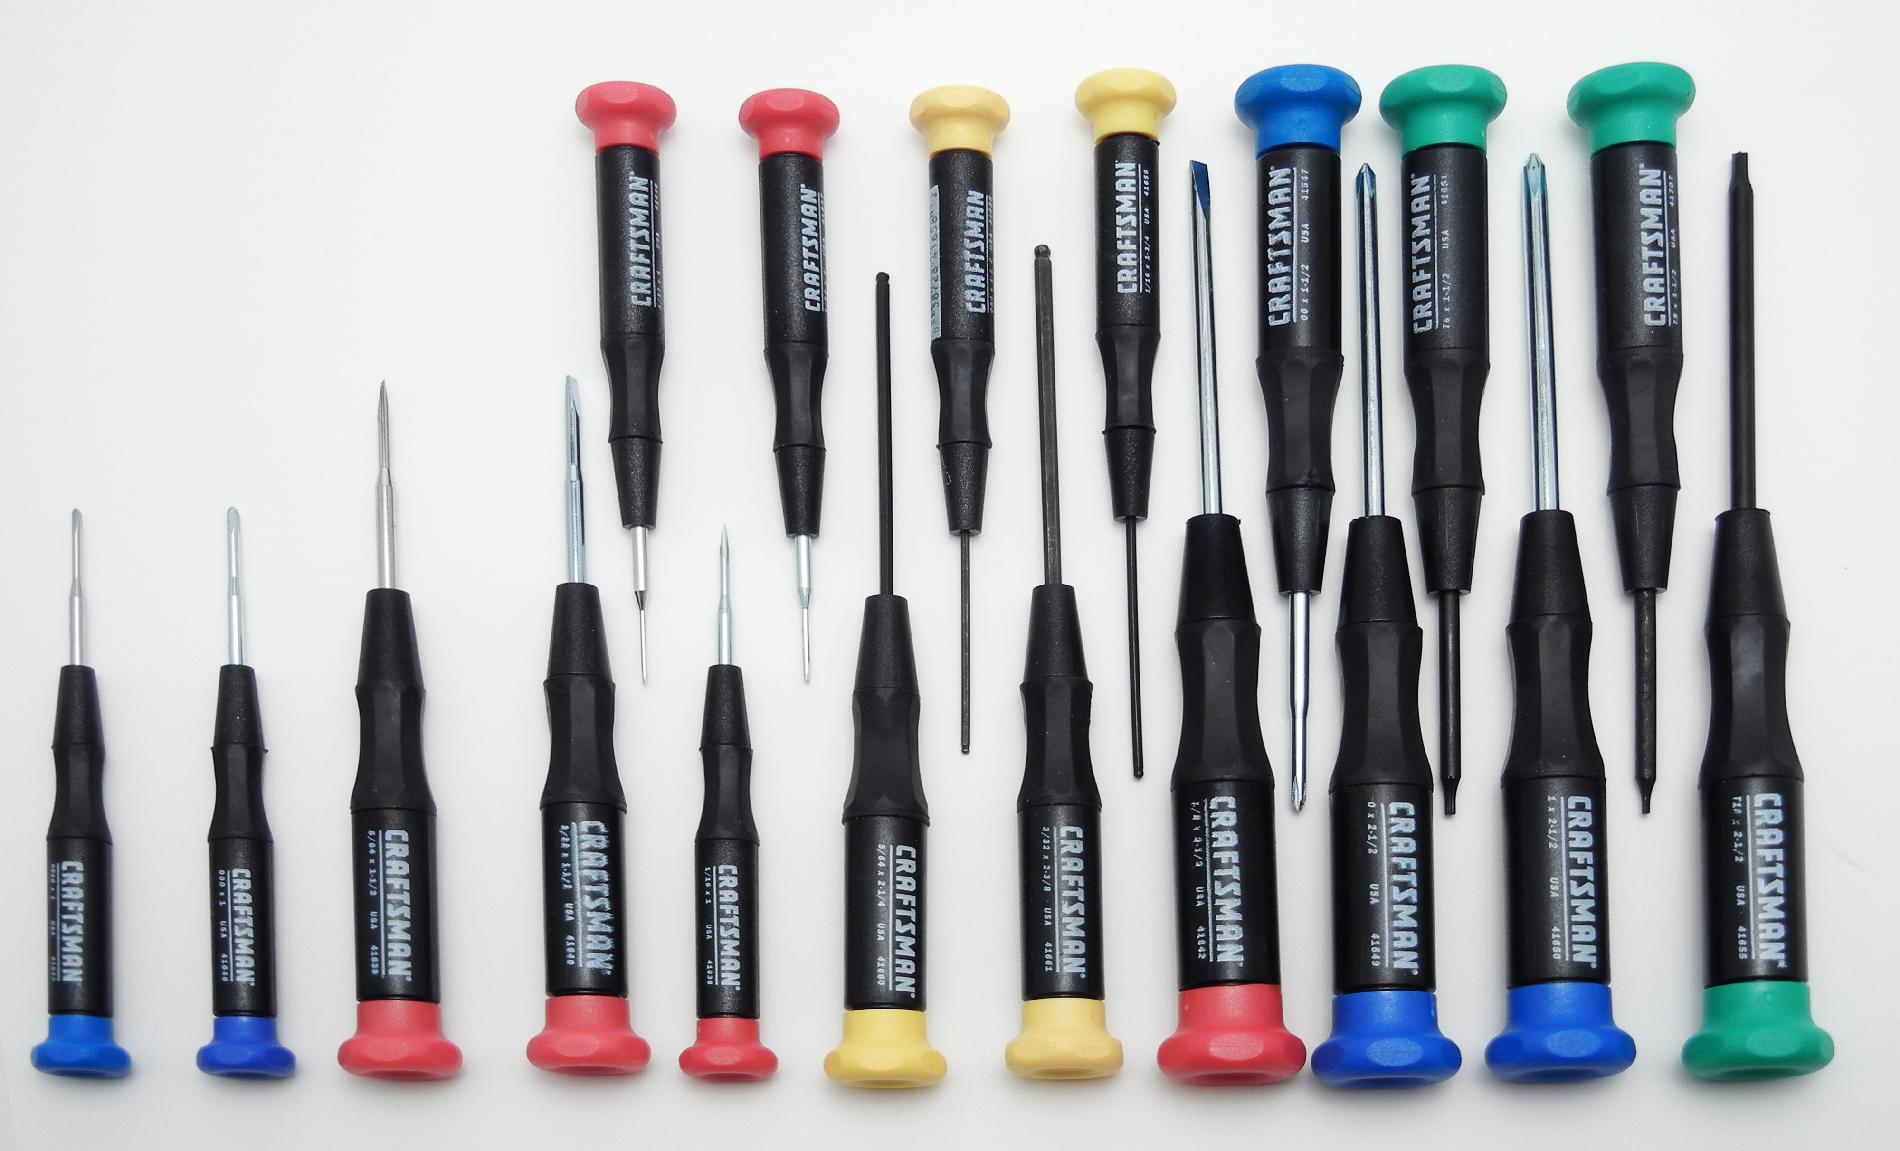screwdriver: (1434, 149, 1650, 1089), (1278, 157, 1470, 1089), (1137, 160, 1312, 1095), (1687, 138, 1838, 1089), (807, 265, 947, 1095), (1227, 57, 1365, 814), (1008, 246, 1132, 1082), (1563, 58, 1699, 814), (323, 379, 465, 1086), (516, 375, 655, 1084), (1379, 57, 1494, 831), (161, 506, 303, 1086), (571, 80, 696, 690), (737, 84, 863, 681), (1073, 67, 1177, 776), (24, 504, 148, 1086), (911, 88, 1016, 761), (664, 528, 784, 1091)
